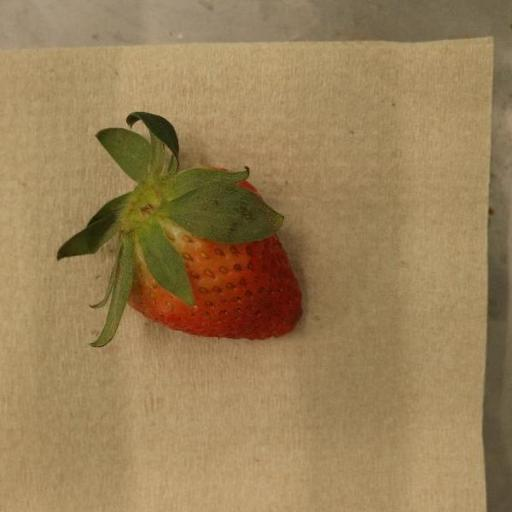Strawberry: (57, 112, 303, 349)
